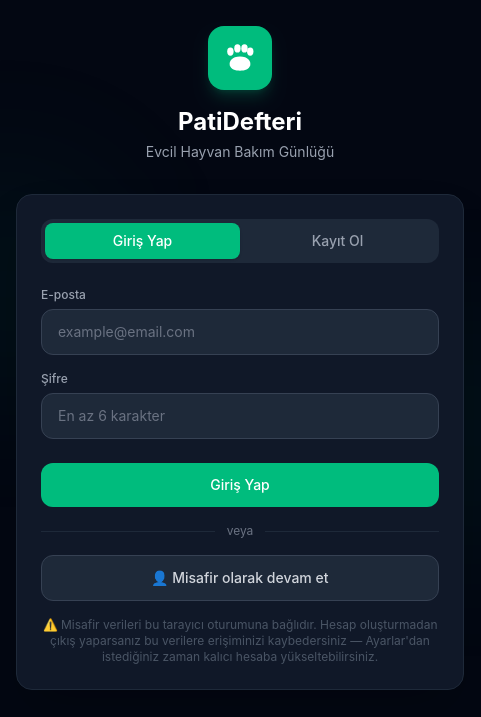
Test: AuthPage doğrulama › kısa şifre için hata gösterir
Type "ali@example.com" into the field with placeholder "example@email.com" at (240, 332), box [41, 309, 439, 355]
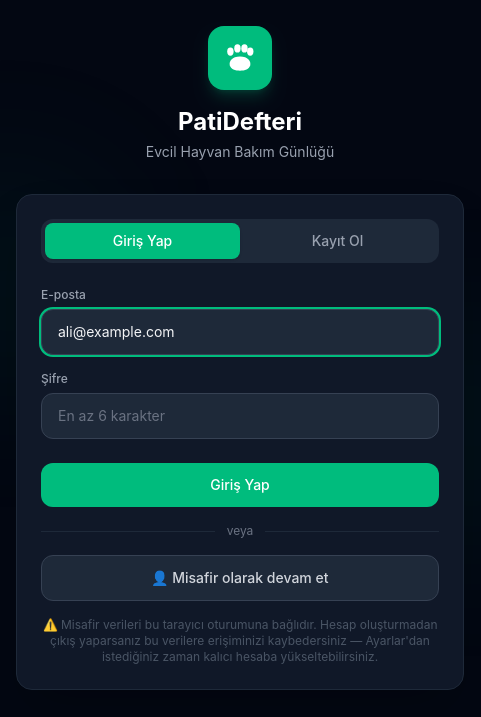
Type "123" into the password field with placeholder "En az 6 karakter" at (240, 416), box [41, 393, 439, 439]
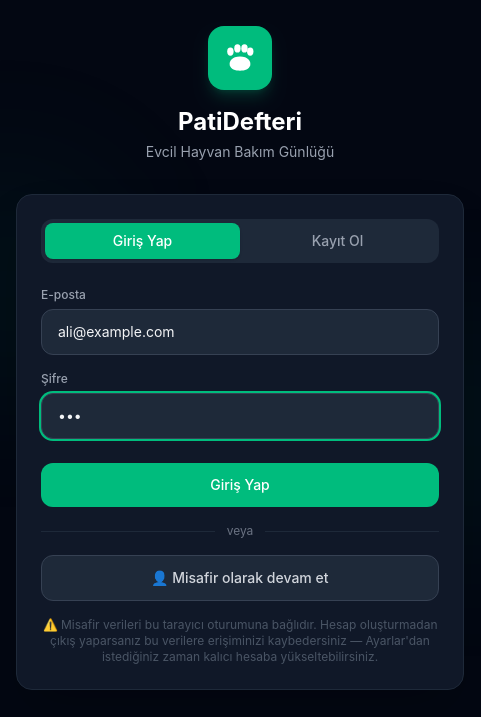
Click the button "Giriş Yap" below "Şifre" at (240, 485), box [41, 463, 439, 507]
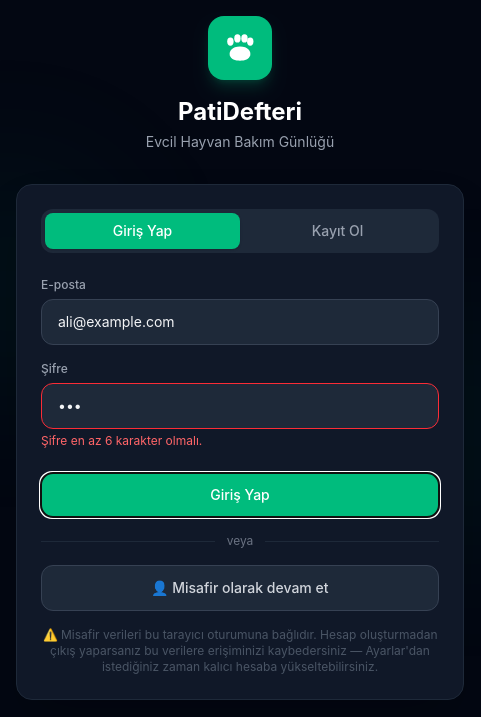
expect the text "Şifre en az 6 karakter olmalı." is shown: met, box [41, 433, 202, 448]
